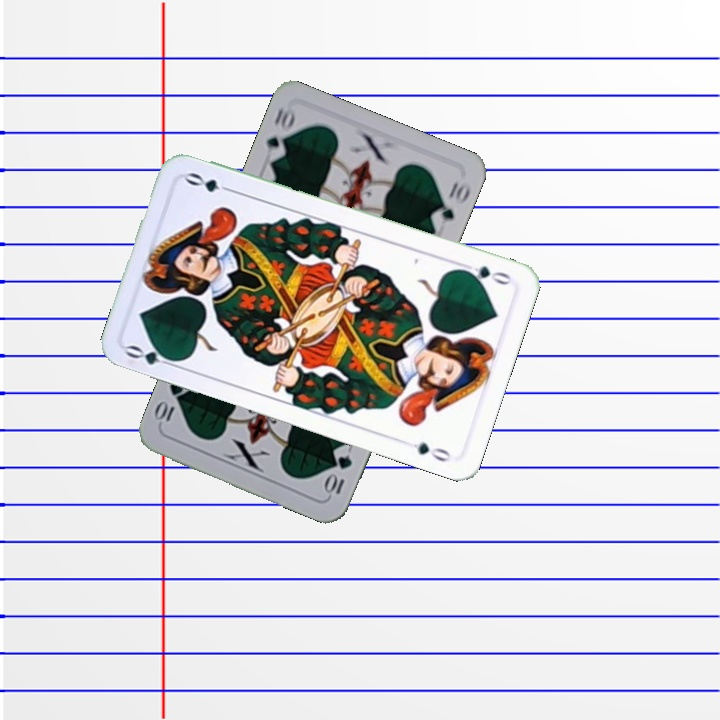G10: (261, 102, 298, 163), (320, 450, 355, 498)
GO: (122, 341, 182, 371), (456, 258, 514, 288)
